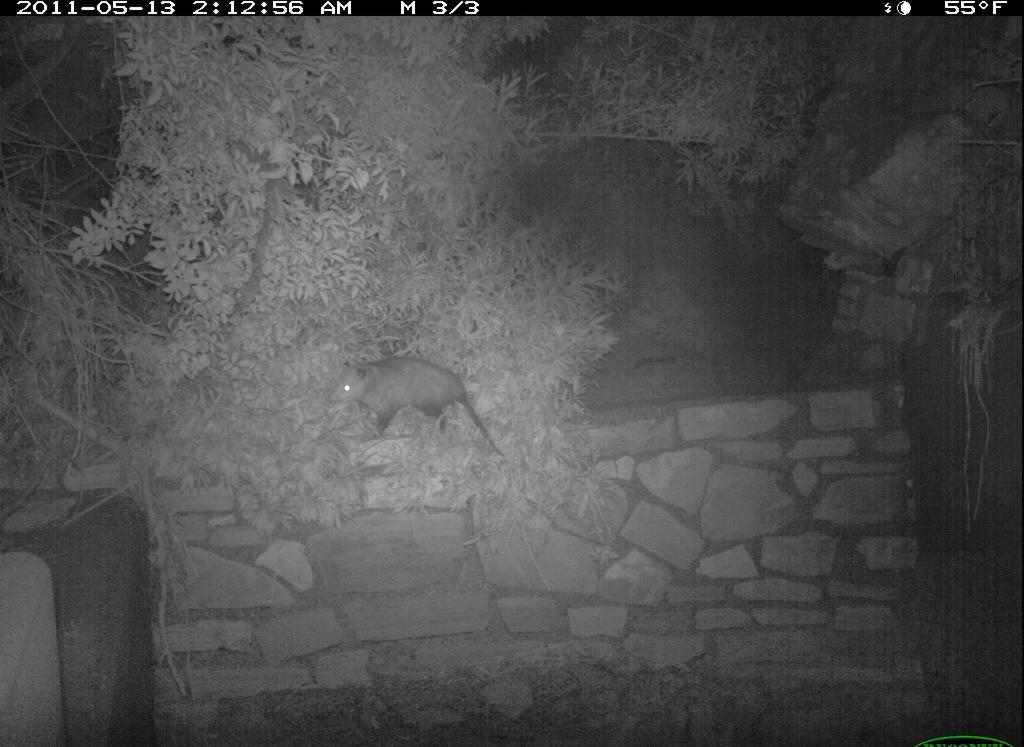opossum: (331, 353, 513, 466)
